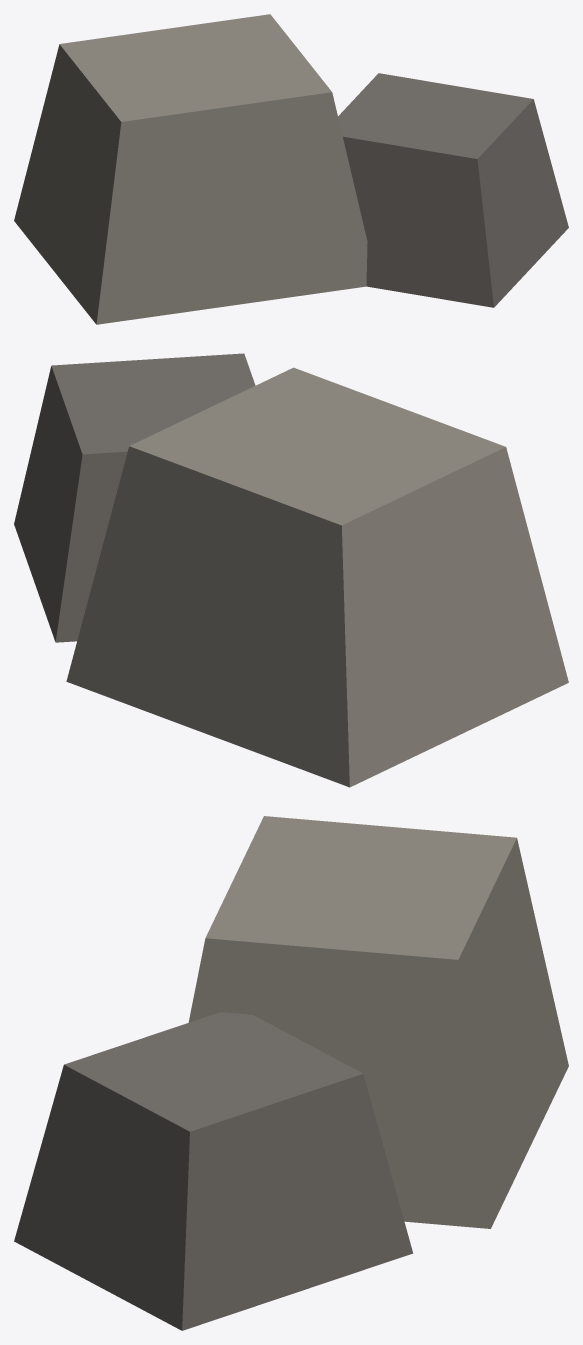
File: stones_2.glb
3 views of the same model, one above another, from view 1: azimuth 30°, elevation 25°; view 2: azimuth 150°, elevation 25°; view 3: azimuth 270°, elevation 25° (orthographic). The views are drawn at different scales.
Visible parts, largest first — view 1: stones_2; view 2: stones_2; view 3: stones_2.
Part boxes in pixels (x1,y1,x2,y2): stones_2: (14,14,568,324); stones_2: (14,353,568,787); stones_2: (14,816,568,1330).
Size of the model in its own units: 2.83 by 1.1 by 2.26.
Materials: 1 (1 with a texture image).
